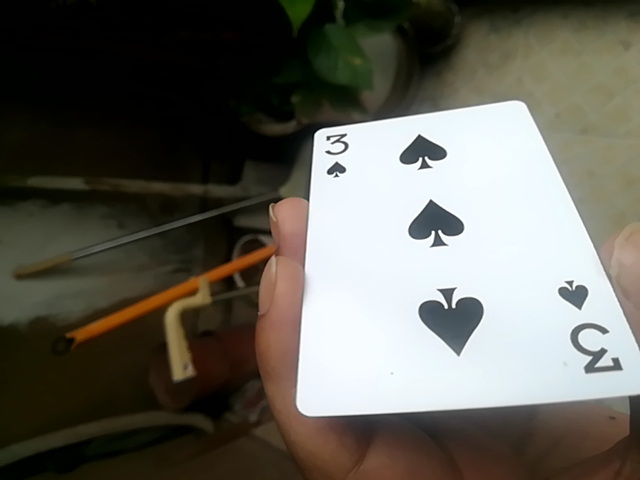ht 3: (294, 99, 639, 429)
